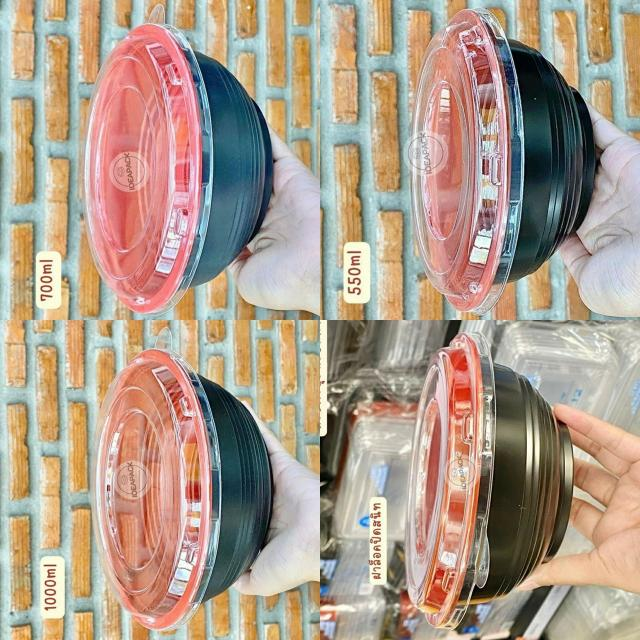Single-Use-Plastic: (408, 9, 598, 315), (84, 21, 271, 314), (91, 331, 272, 630), (406, 332, 574, 628)
